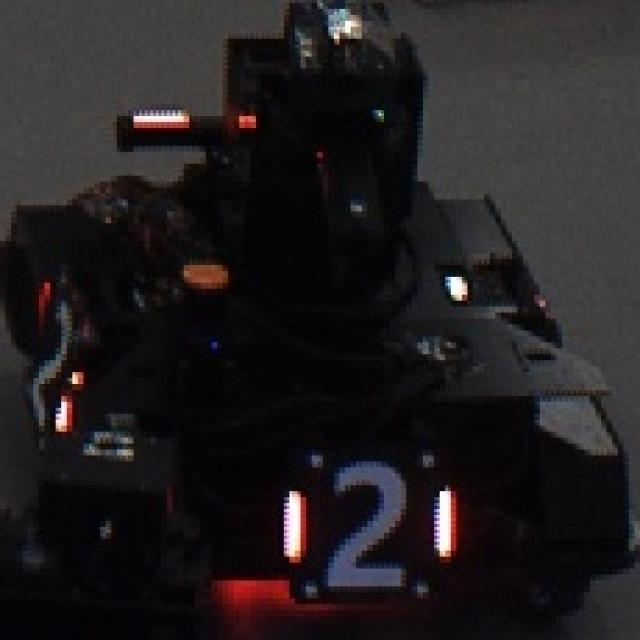R2: (281, 458, 456, 586)
